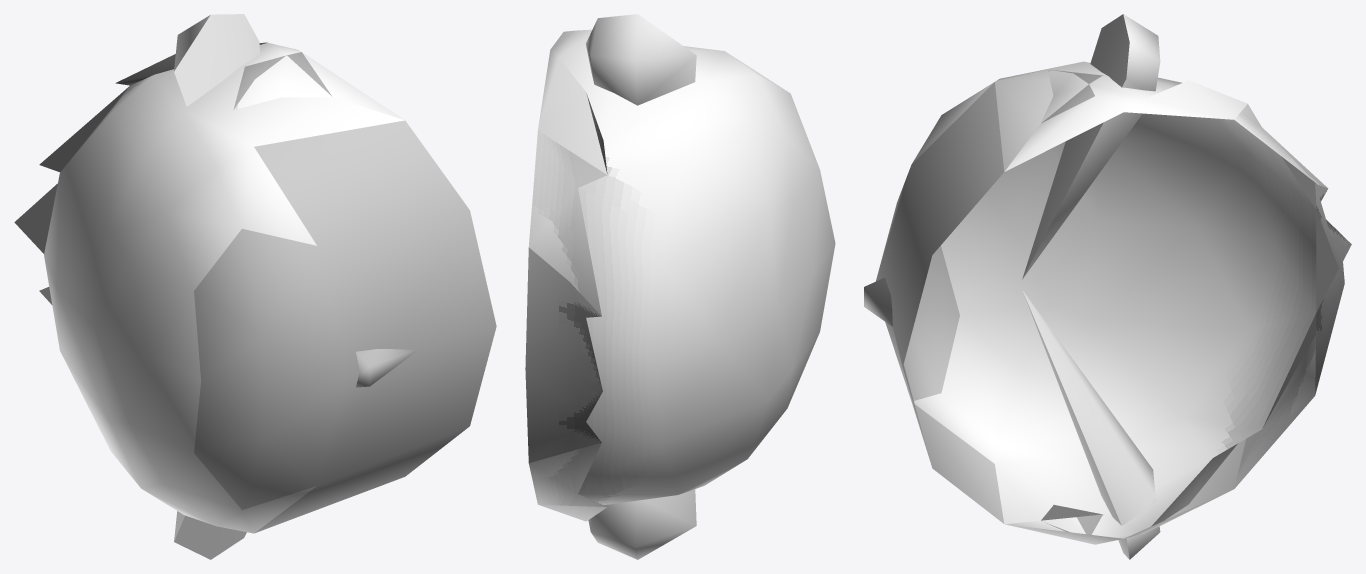
Rendered from girl13b.dae.
3 views of the same model, side by side, from view 1: azimuth 30°, elevation 25°; view 2: azimuth 150°, elevation 25°; view 3: azimuth 270°, elevation 25° (orthographic).
Parts seen in each view (by area): view 1: vsn_mesh_1_, vsn_mesh_0_, vsn_mesh_2_; view 2: vsn_mesh_1_; view 3: vsn_mesh_1_, vsn_mesh_0_, vsn_mesh_2_.
Part boxes in pixels (x1,y1,x2,y2): vsn_mesh_1_: (14, 14, 404, 559); vsn_mesh_0_: (254, 120, 496, 533); vsn_mesh_2_: (194, 228, 346, 509); vsn_mesh_1_: (525, 14, 835, 559); vsn_mesh_1_: (912, 14, 1351, 559); vsn_mesh_0_: (864, 82, 1004, 523); vsn_mesh_2_: (876, 167, 959, 400).
Size of the model in its own units: 15.5 by 26.71 by 21.91.
Materials: 3 (1 with a texture image).
